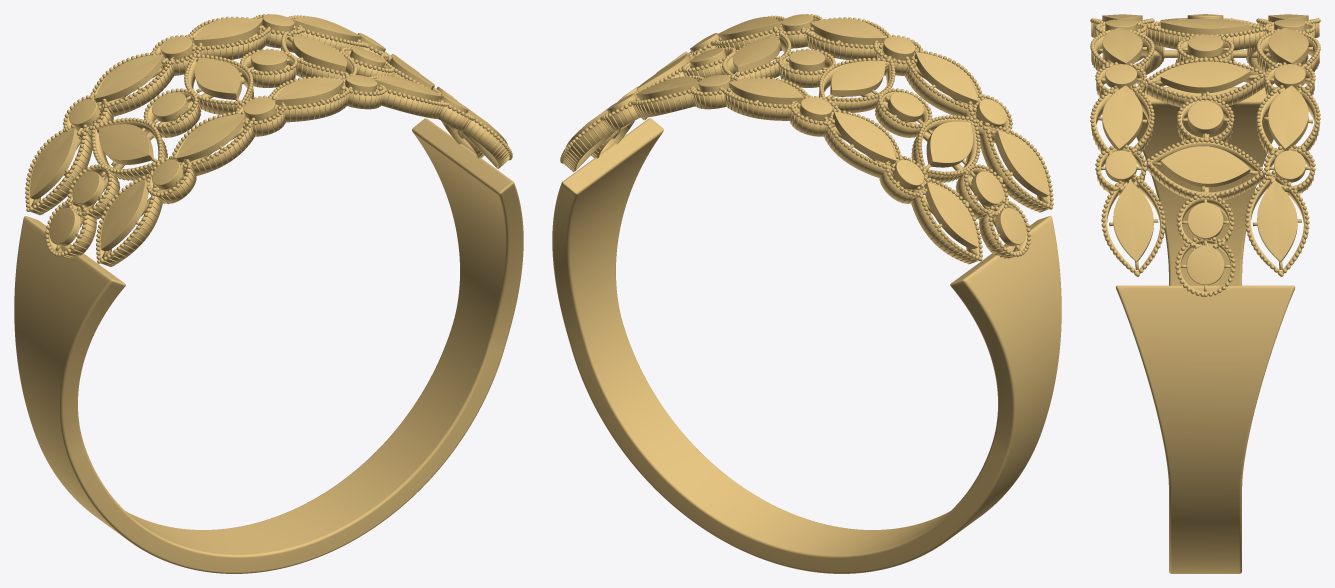
3 views of the same model, side by side, from view 1: azimuth 30°, elevation 25°; view 2: azimuth 150°, elevation 25°; view 3: azimuth 270°, elevation 25° (orthographic).
Parts seen in each view (by area): view 1: Complete curved comfort shank | reverse inferred, Fine milgrain | individually modeled rounded beads, Outer scalloped leaf 0 1 | raised polished face, Outer scalloped leaf 0 -1 | raised polished face, Upright field leaf 0 | raised polished face, Outer scalloped leaf 1 -1 | raised polished face, Outer scalloped leaf 1 1 | raised polished face, Upright field leaf 1 | raised polished face, Outer scalloped leaf 2 -1 | raised polished face, Outer scalloped leaf 2 1 | raised polished face, Upright field leaf 2 | raised polished face, Outer scalloped leaf 0 -1 | closed openwork gallery (+19 smaller); view 2: Complete curved comfort shank | reverse inferred, Fine milgrain | individually modeled rounded beads, Outer scalloped leaf 0 -1 | raised polished face, Outer scalloped leaf 0 1 | raised polished face, Upright field leaf 0 | raised polished face, Outer scalloped leaf 1 -1 | raised polished face, Outer scalloped leaf 1 1 | raised polished face, Upright field leaf 1 | raised polished face, Outer scalloped leaf 2 -1 | raised polished face, Outer scalloped leaf 2 1 | raised polished face, Upright field leaf 2 | raised polished face, Outer scalloped leaf 0 -1 | closed openwork gallery (+19 smaller); view 3: Complete curved comfort shank | reverse inferred, Fine milgrain | individually modeled rounded beads, Upright field leaf 3 | raised polished face, Outer scalloped leaf 4 -1 | raised polished face, Outer scalloped leaf 4 1 | raised polished face, Upright field leaf 2 | raised polished face, Outer scalloped leaf 3 1 | raised polished face, Outer scalloped leaf 3 -1 | raised polished face, Upright field leaf 3 | closed openwork gallery, Upright field leaf 1 | raised polished face, End circle 6 | raised polished face, Outer scalloped leaf 2 -1 | raised polished face (+25 smaller).
Part boxes in pixels (<box>): Complete curved comfort shank | reverse inferred: <box>14,118,523,573</box>; Fine milgrain | individually modeled rounded beads: <box>25,14,512,263</box>; Outer scalloped leaf 0 1 | raised polished face: <box>30,128,78,199</box>; Outer scalloped leaf 0 -1 | raised polished face: <box>100,180,148,251</box>; Upright field leaf 0 | raised polished face: <box>98,124,153,164</box>; Outer scalloped leaf 1 -1 | raised polished face: <box>176,114,246,162</box>; Outer scalloped leaf 1 1 | raised polished face: <box>95,54,164,102</box>; Upright field leaf 1 | raised polished face: <box>194,57,241,99</box>; Outer scalloped leaf 2 -1 | raised polished face: <box>275,77,343,106</box>; Outer scalloped leaf 2 1 | raised polished face: <box>194,18,262,46</box>; Upright field leaf 2 | raised polished face: <box>292,34,346,72</box>; Outer scalloped leaf 0 -1 | closed openwork gallery: <box>98,178,162,266</box>; Complete curved comfort shank | reverse inferred: <box>552,118,1061,573</box>; Fine milgrain | individually modeled rounded beads: <box>560,14,1053,261</box>; Outer scalloped leaf 0 -1 | raised polished face: <box>994,130,1048,197</box>; Outer scalloped leaf 0 1 | raised polished face: <box>924,182,978,248</box>; Upright field leaf 0 | raised polished face: <box>926,121,972,167</box>; Outer scalloped leaf 1 -1 | raised polished face: <box>914,52,977,104</box>; Outer scalloped leaf 1 1 | raised polished face: <box>833,112,896,164</box>; Upright field leaf 1 | raised polished face: <box>830,60,884,96</box>; Outer scalloped leaf 2 -1 | raised polished face: <box>810,18,884,44</box>; Outer scalloped leaf 2 1 | raised polished face: <box>729,78,803,104</box>; Upright field leaf 2 | raised polished face: <box>732,34,779,72</box>; Outer scalloped leaf 0 -1 | closed openwork gallery: <box>979,126,1050,211</box>; Complete curved comfort shank | reverse inferred: <box>1116,87,1295,573</box>; Fine milgrain | individually modeled rounded beads: <box>1090,18,1320,296</box>; Upright field leaf 3 | raised polished face: <box>1160,146,1250,187</box>; Outer scalloped leaf 4 -1 | raised polished face: <box>1113,181,1153,262</box>; Outer scalloped leaf 4 1 | raised polished face: <box>1257,181,1297,262</box>; Upright field leaf 2 | raised polished face: <box>1160,61,1250,93</box>; Outer scalloped leaf 3 1 | raised polished face: <box>1268,85,1308,151</box>; Outer scalloped leaf 3 -1 | raised polished face: <box>1102,85,1142,150</box>; Upright field leaf 3 | closed openwork gallery: <box>1147,141,1263,199</box>; Upright field leaf 1 | raised polished face: <box>1160,18,1250,35</box>; End circle 6 | raised polished face: <box>1186,246,1224,285</box>; Outer scalloped leaf 2 -1 | raised polished face: <box>1102,27,1142,65</box>.
Size of the model in its own units: 0.0195 by 0.0203 by 0.00833.
